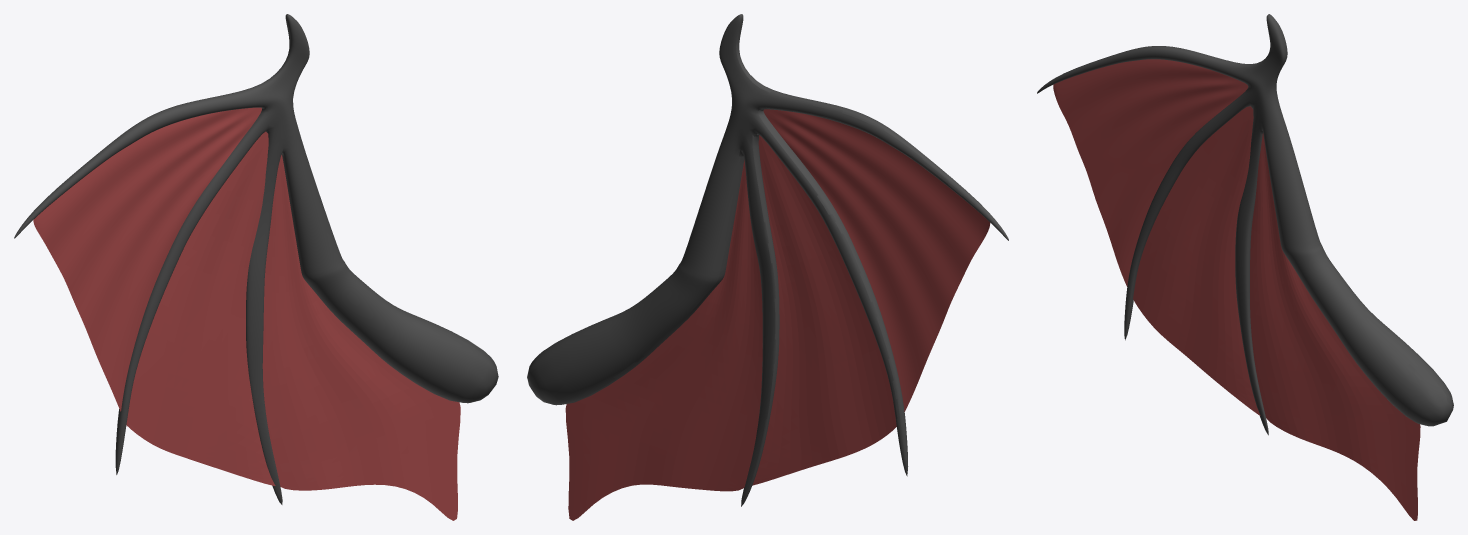
File: bat_leftwing.obj
3 views of the same model, side by side, from view 1: azimuth 30°, elevation 25°; view 2: azimuth 150°, elevation 25°; view 3: azimuth 330°, elevation 25° (orthographic). The views are drawn at different scales.
Parts seen in each view (by area): view 1: 左翼; view 2: 左翼; view 3: 左翼.
Part boxes in pixels (x1,y1,x2,y2): 左翼: [14, 14, 498, 520]; 左翼: [527, 14, 1008, 520]; 左翼: [1037, 14, 1453, 520].
Bounding box in the file's own units: 2.08 × 2.26 × 0.2166.
